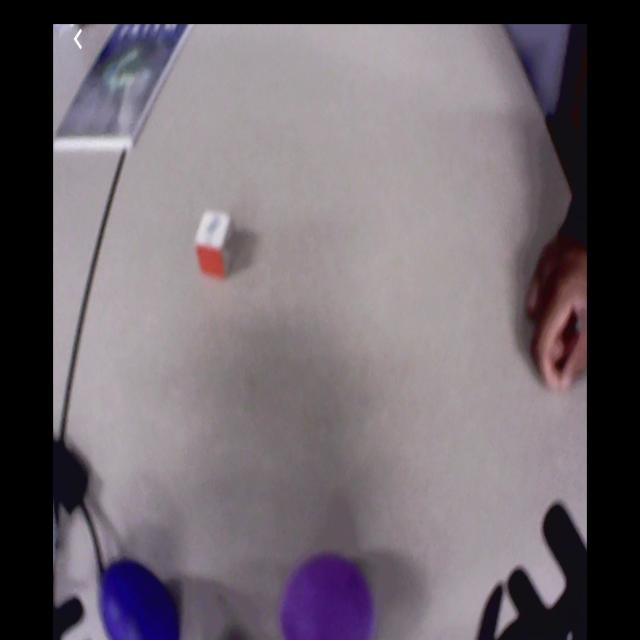ball: (280, 550, 378, 638), (99, 558, 180, 640)
